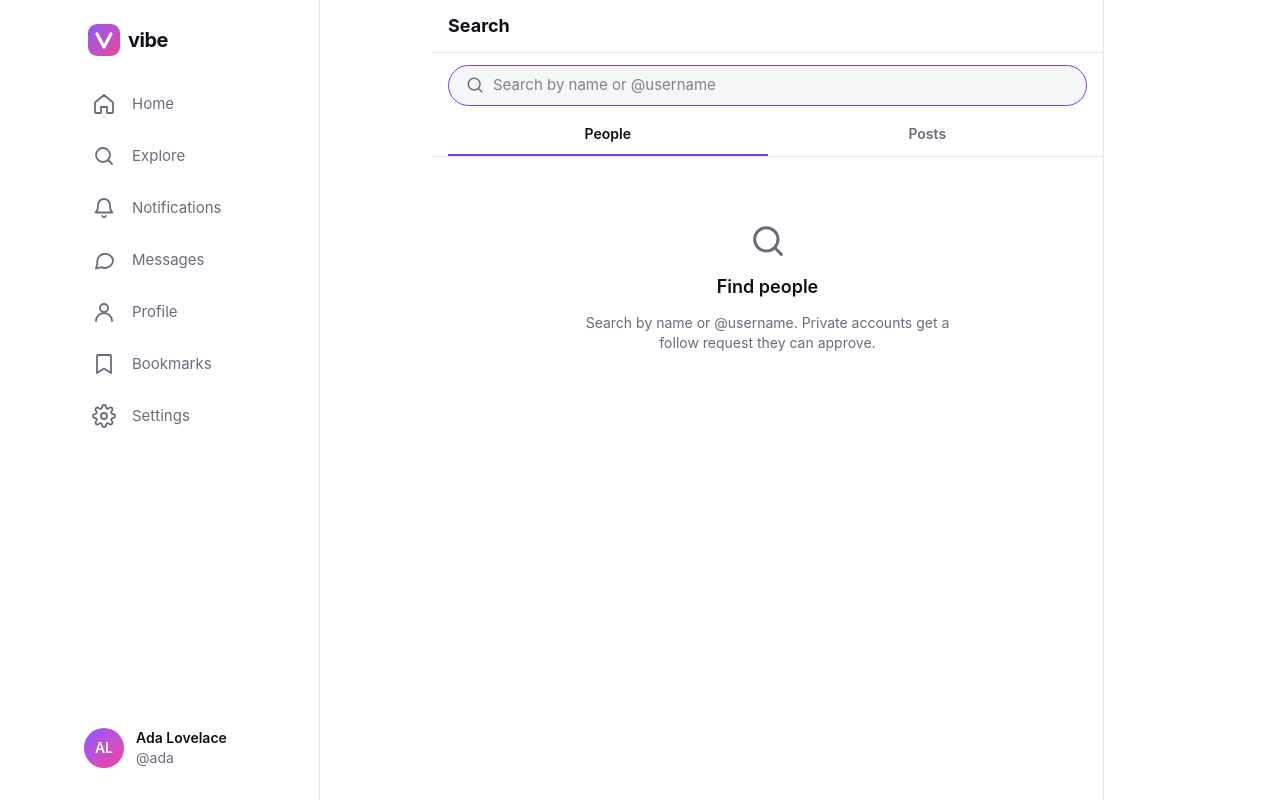
Test case: search page › finds a private account and sends a follow request
Type "priv" into the search field named "Search people" at (782, 85), box [493, 74, 1070, 96]
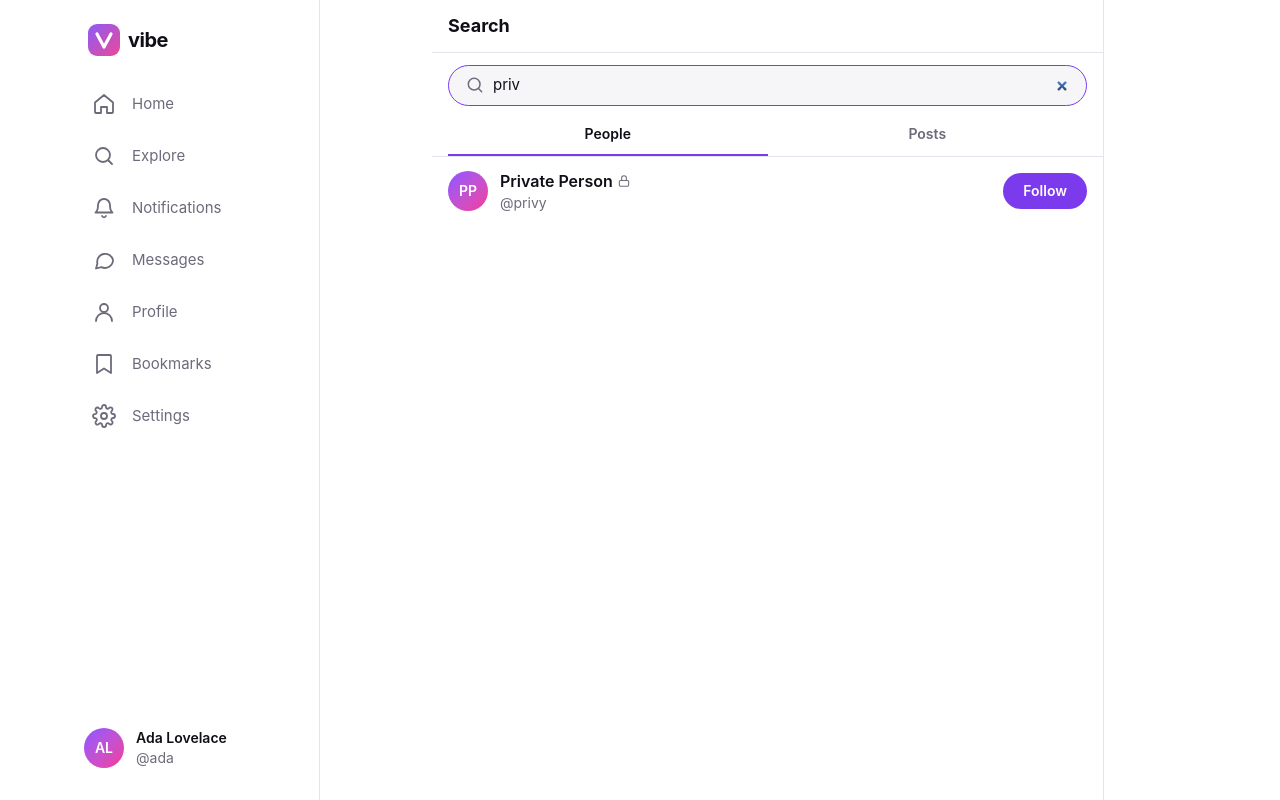
Now the text "Private Person" is shown, box [500, 168, 613, 192]
Now the icon named "Private account" is shown, box [617, 174, 631, 188]
Click the button "Follow" at (1045, 190), box [1003, 172, 1087, 208]
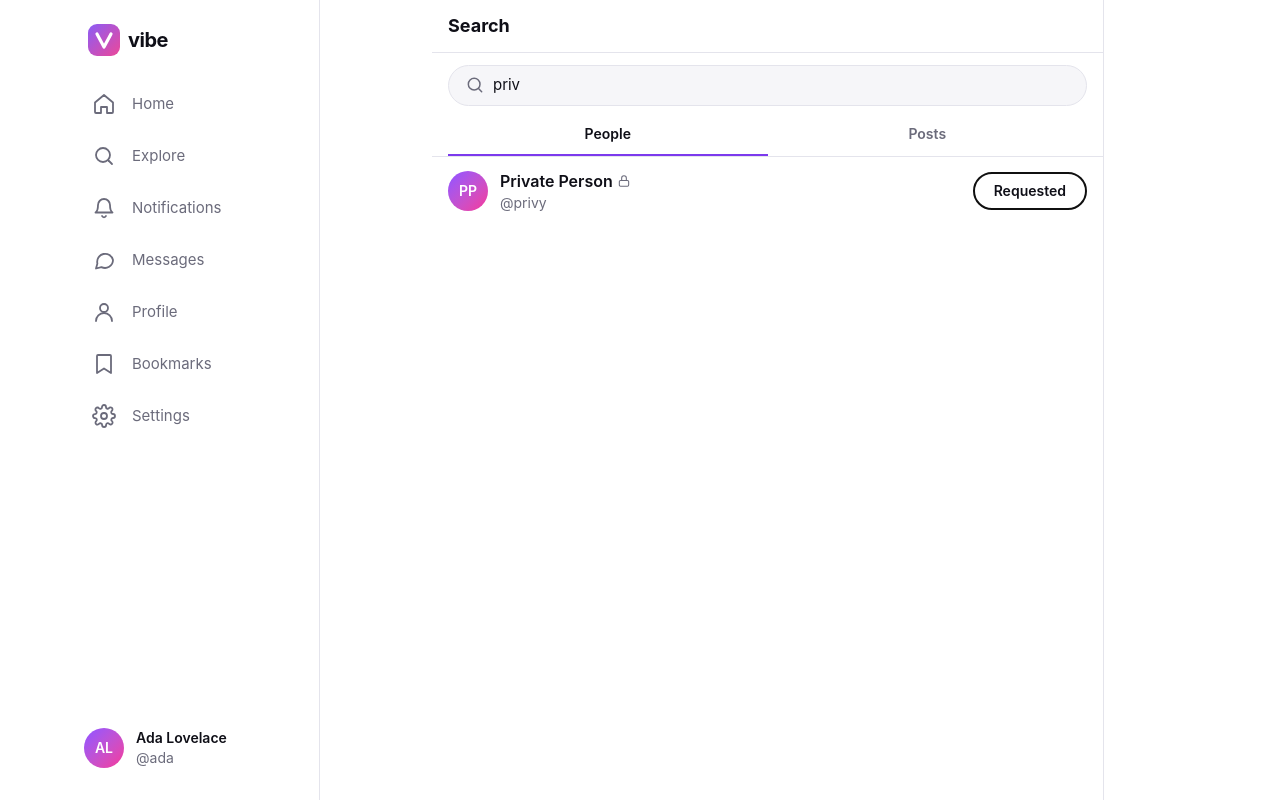
Now the button with aria-label "Cancel follow request" reads "Requested", box [973, 172, 1087, 210]
